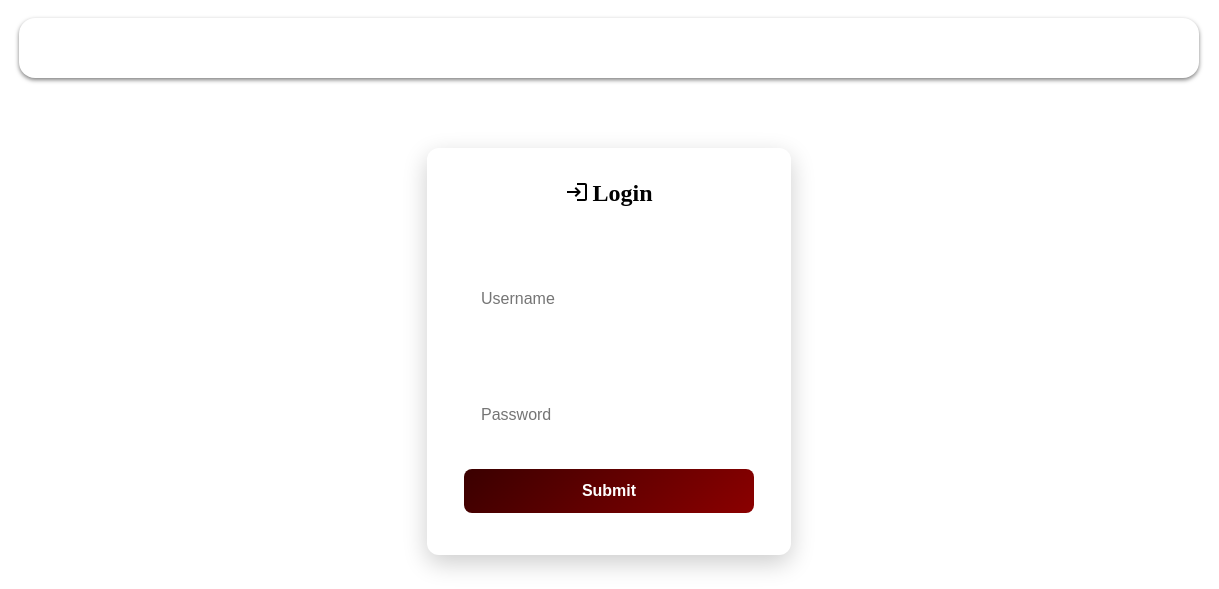
Test: Login Page Integration › renders toast when user not found
Type "da" into the field with placeholder "Username" at (609, 299), box [464,276,754,322]
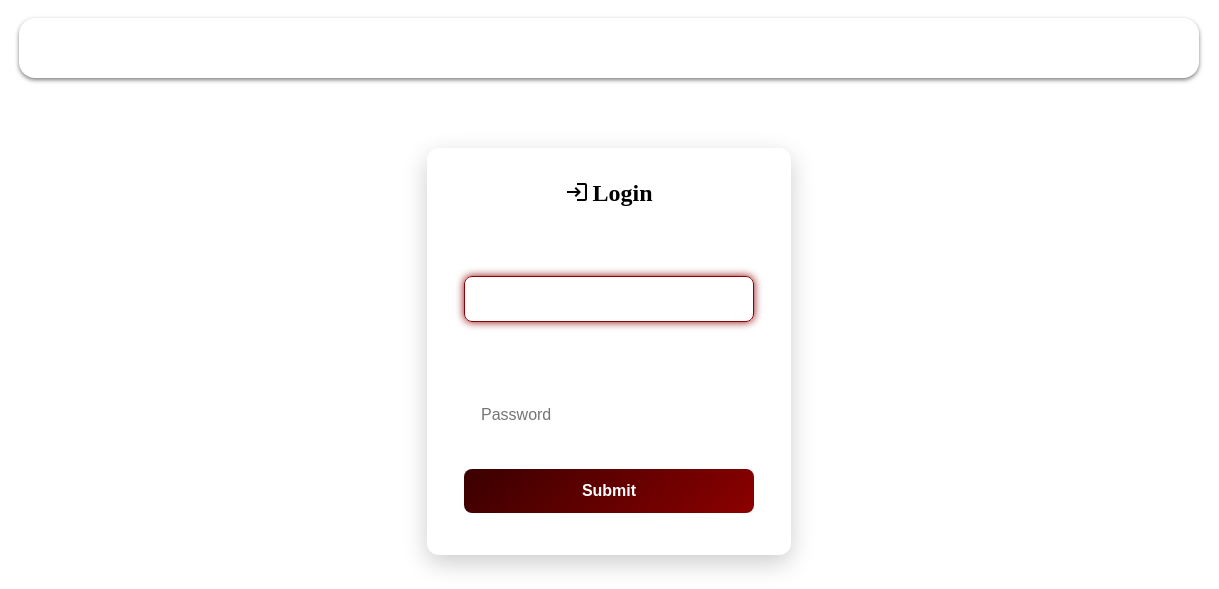
Type "da" into the password field with placeholder "Password" at (609, 415), box [464,393,754,438]
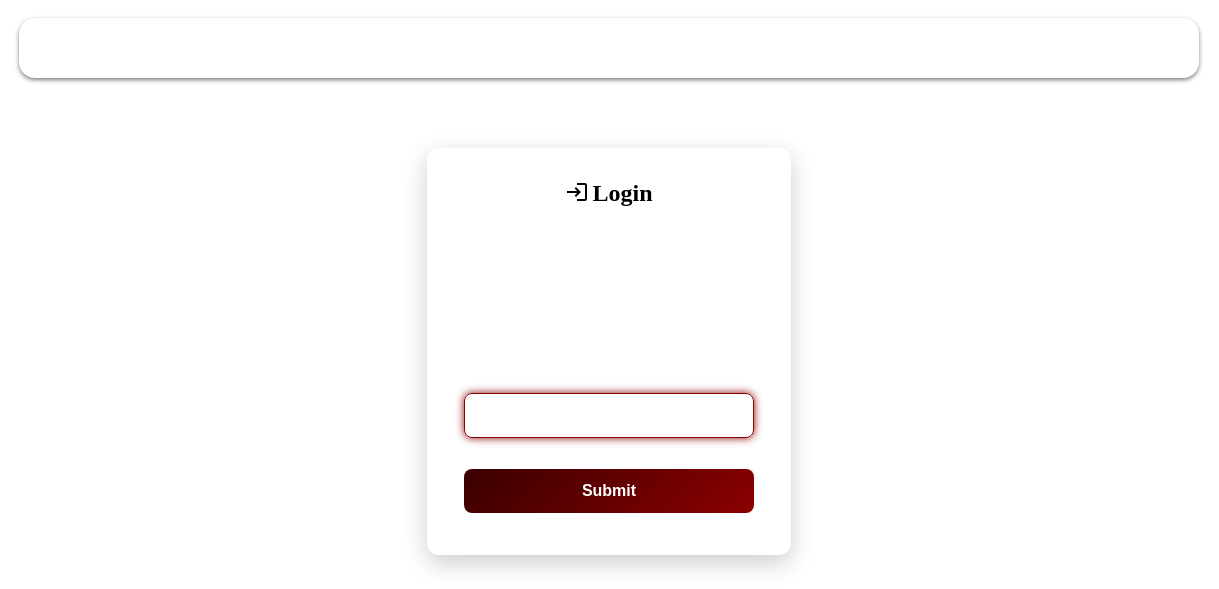
Click the button "Submit" at (609, 491), box [464,469,754,513]
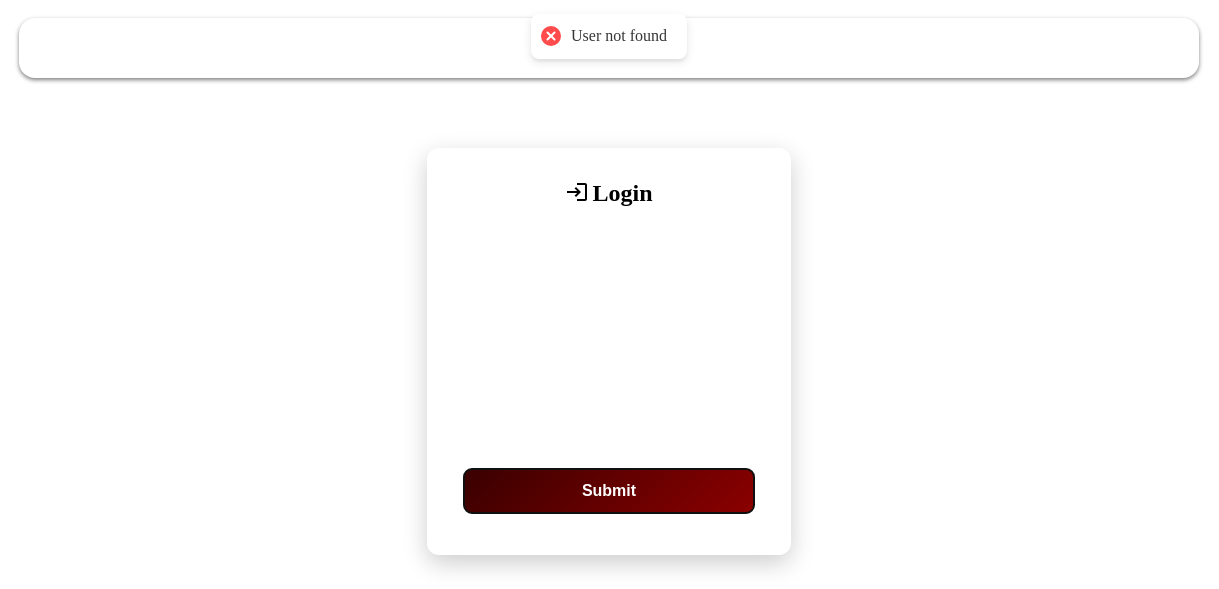
Check: the text "User not found" is shown, box [571,26,667,47]
